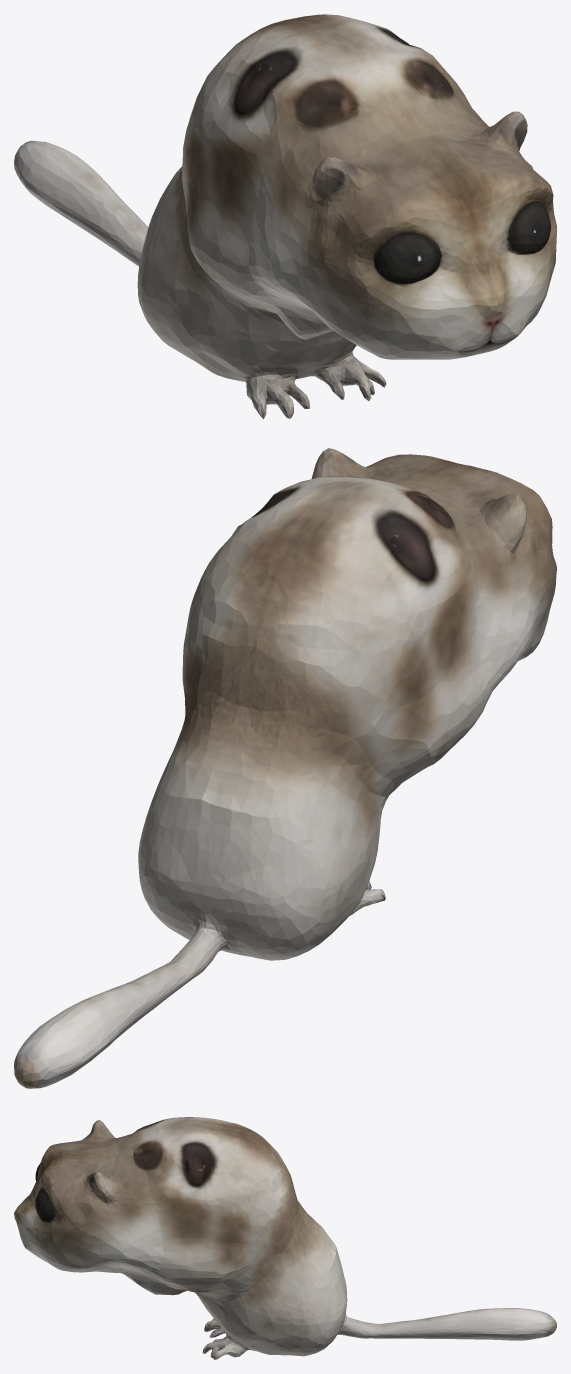
The model's file is Blurry_Hamster_Stare_0425135604_texture.fbx.
3 views of the same model, one above another, from view 1: azimuth 30°, elevation 25°; view 2: azimuth 150°, elevation 25°; view 3: azimuth 270°, elevation 25° (orthographic). The views are drawn at different scales.
Visible parts, largest first — view 1: temp; view 2: temp; view 3: temp.
Boxes of the visible parts, left/top/right/bottom form: temp: left=14, top=14, right=556, bottom=419; temp: left=14, top=448, right=556, bottom=1088; temp: left=14, top=1117, right=556, bottom=1359.
Size of the model in its own units: 60.21 by 89.87 by 199.
Materials: 1 (1 with a texture image).
